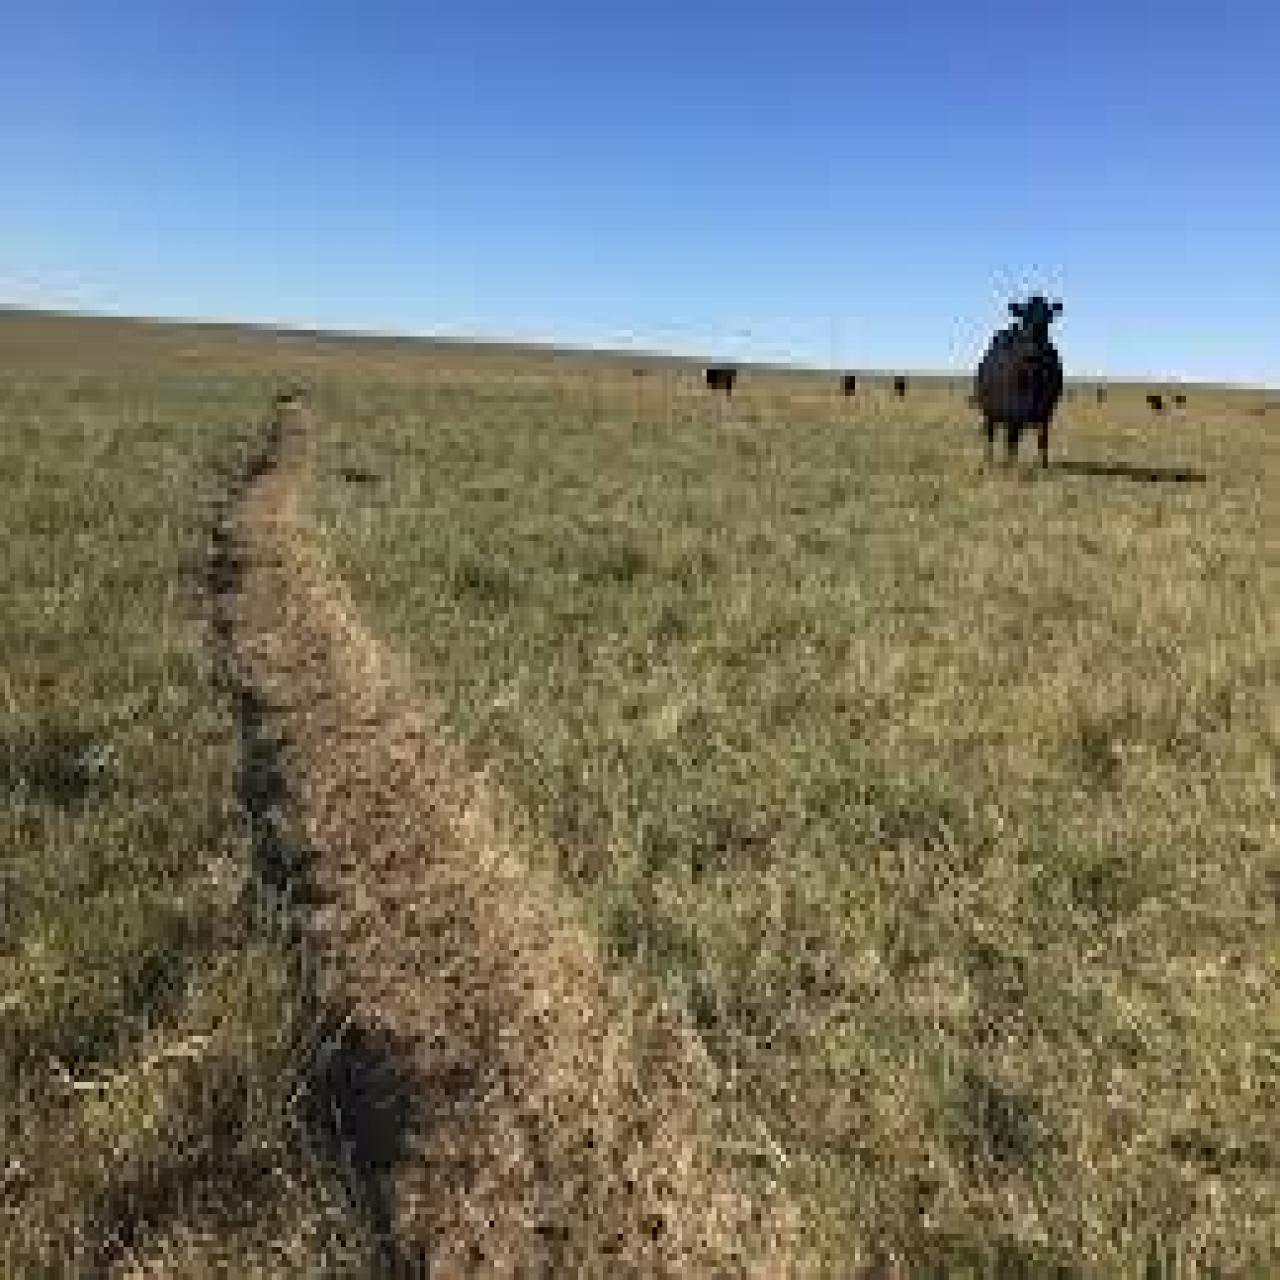cow: (968, 293, 1077, 471), (704, 347, 744, 393)
